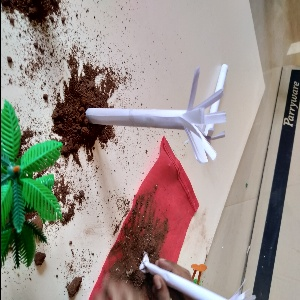plant: (1, 98, 60, 271)
weed: (81, 63, 224, 162), (135, 246, 279, 300)
